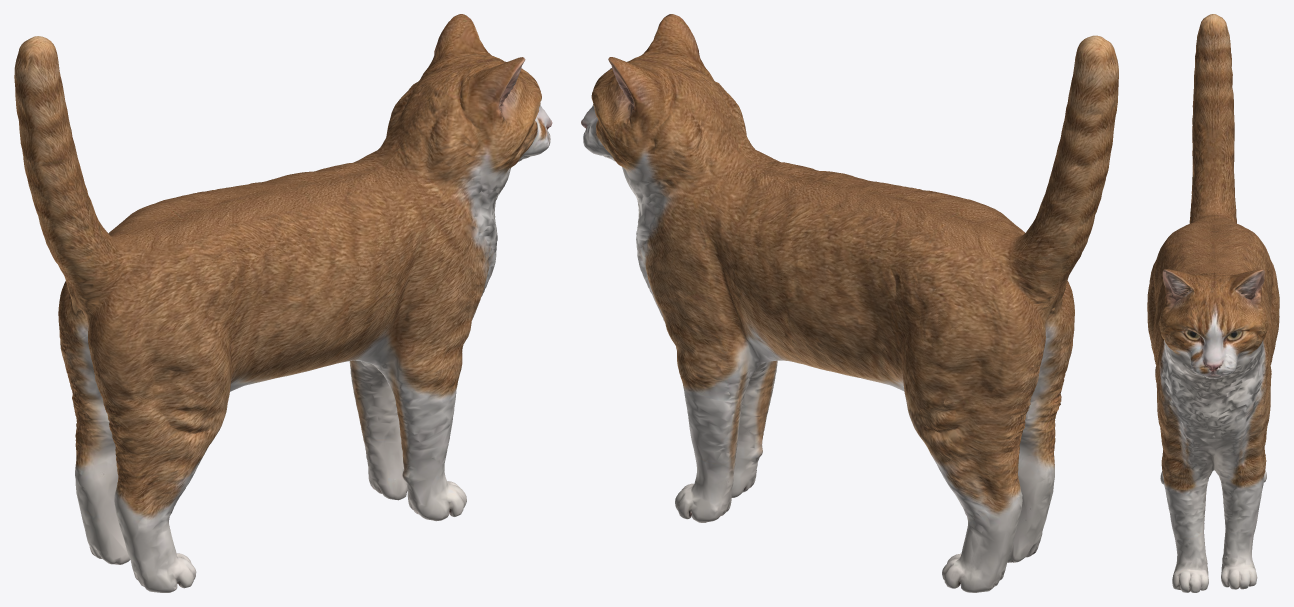
The model's file is KOTECHAN.glb.
The picture shows the model from 3 angles, left to right: view 1: azimuth 30°, elevation 25°; view 2: azimuth 150°, elevation 25°; view 3: azimuth 270°, elevation 25°; orthographic projection. The views are drawn at different scales.
Parts seen in each view (by area): view 1: tripo_node_08b72cdf-73b4-4baf-aeb2-debd5a21d1c0; view 2: tripo_node_08b72cdf-73b4-4baf-aeb2-debd5a21d1c0; view 3: tripo_node_08b72cdf-73b4-4baf-aeb2-debd5a21d1c0.
Part boxes in pixels (bbox=[...]): tripo_node_08b72cdf-73b4-4baf-aeb2-debd5a21d1c0: bbox=[14, 14, 552, 592]; tripo_node_08b72cdf-73b4-4baf-aeb2-debd5a21d1c0: bbox=[581, 14, 1118, 592]; tripo_node_08b72cdf-73b4-4baf-aeb2-debd5a21d1c0: bbox=[1147, 14, 1279, 592].
Size of the model in its own units: 0.998 by 0.9999 by 0.2808.
Materials: 1 (1 with a texture image).
